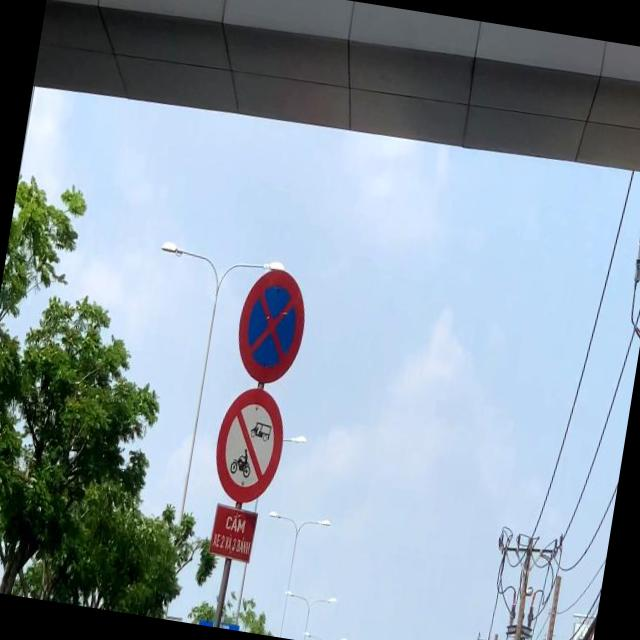P-104: (210, 385, 290, 507)
P-130: (231, 266, 312, 388)
